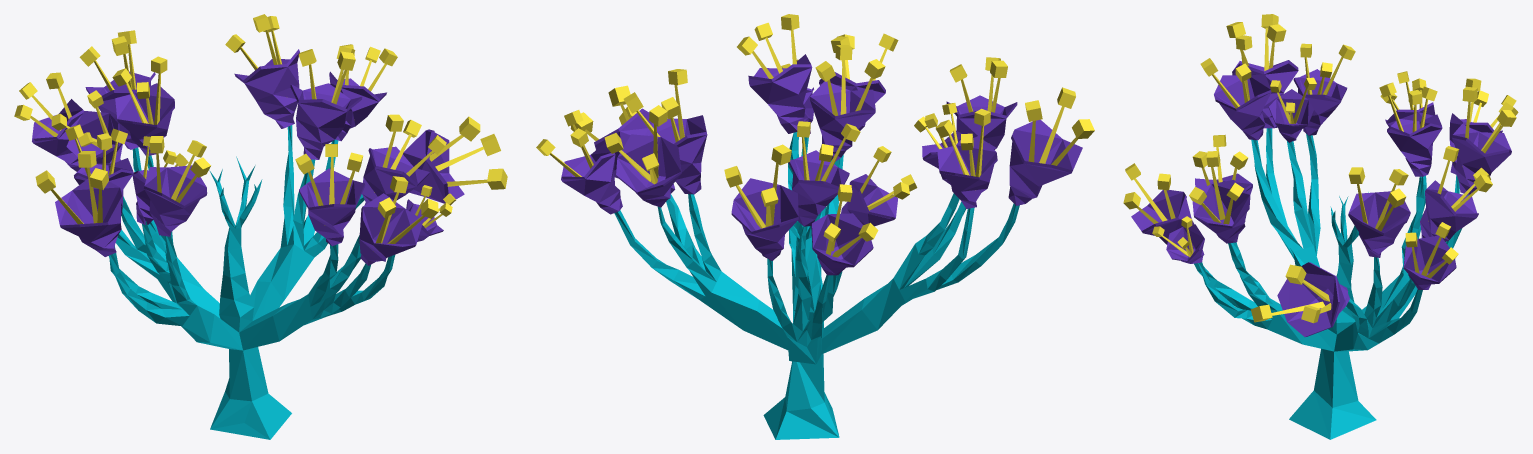
File: bulb-flower.glb
The picture shows the model from 3 angles, left to right: view 1: azimuth 30°, elevation 25°; view 2: azimuth 150°, elevation 25°; view 3: azimuth 270°, elevation 25°; orthographic projection. The views are drawn at different scales.
Visible parts, largest first — view 1: Node; view 2: Node; view 3: Node.
Part boxes in pixels (<box>): Node: <box>14,14,507,439</box>; Node: <box>536,14,1094,439</box>; Node: <box>1123,14,1518,439</box>.
Size of the model in its own units: 3.35 by 2.33 by 2.59.
